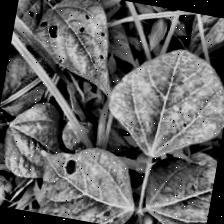ALS: (103, 40, 224, 153), (29, 140, 139, 224), (143, 146, 218, 224), (0, 46, 63, 115), (4, 113, 60, 176)
